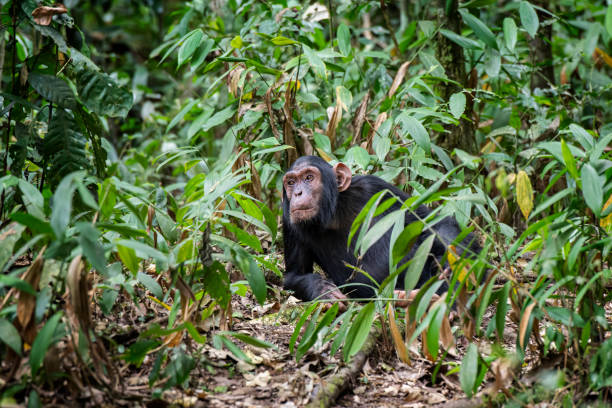chimpanzee: (276, 153, 358, 243)
